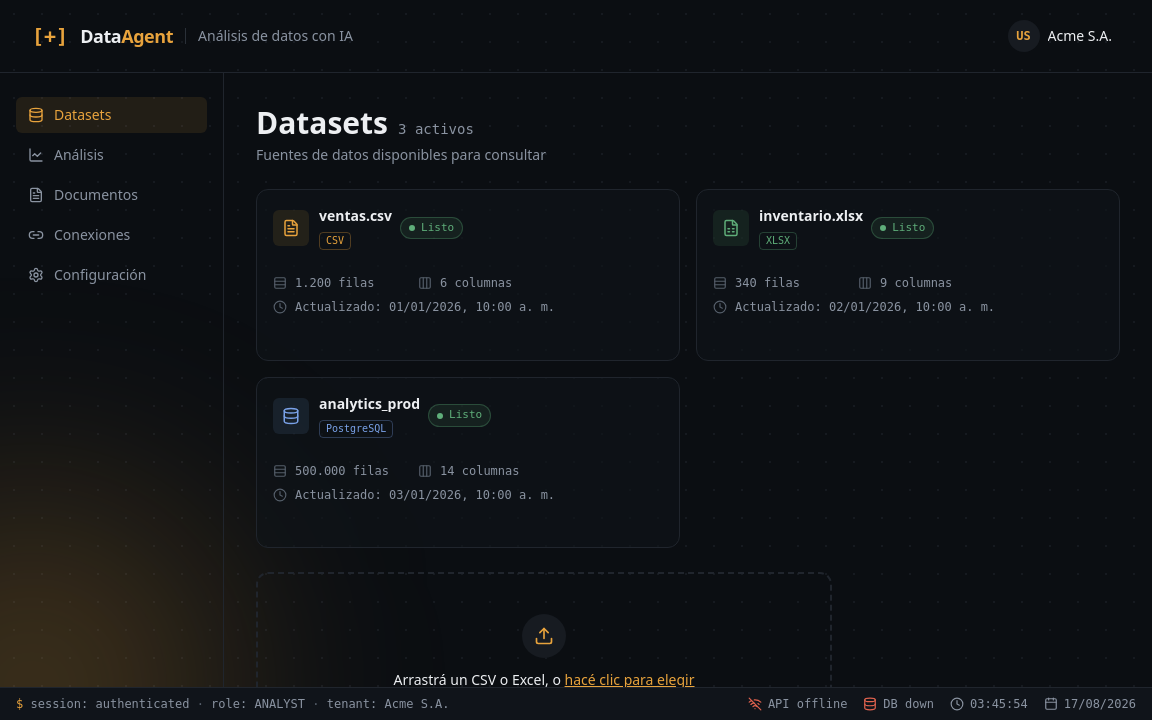
Test: DatasetsPage › opens the schema modal with columns when a dataset card is clicked
Click the text "ventas.csv" at (356, 216), box [319,206,392,226]
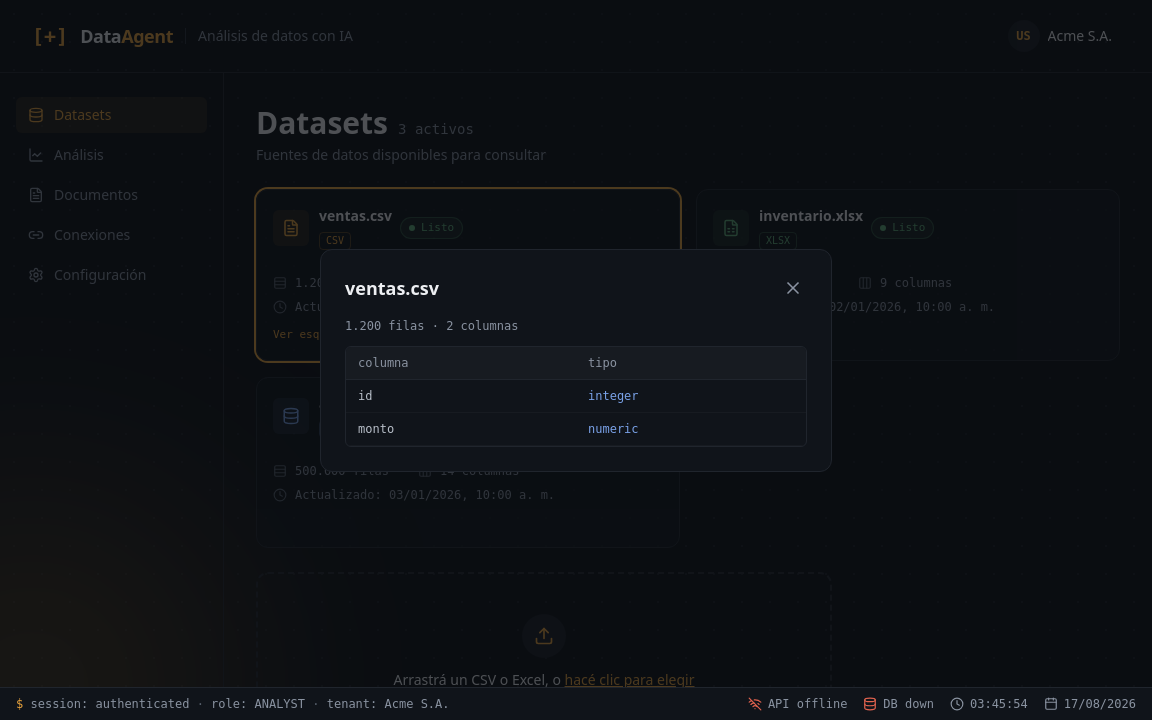
expect the text "id" is shown: met, box [346,379,576,412]
expect the text "monto" is shown: met, box [346,412,576,445]
expect the text "integer" is shown: met, box [576,379,806,412]
